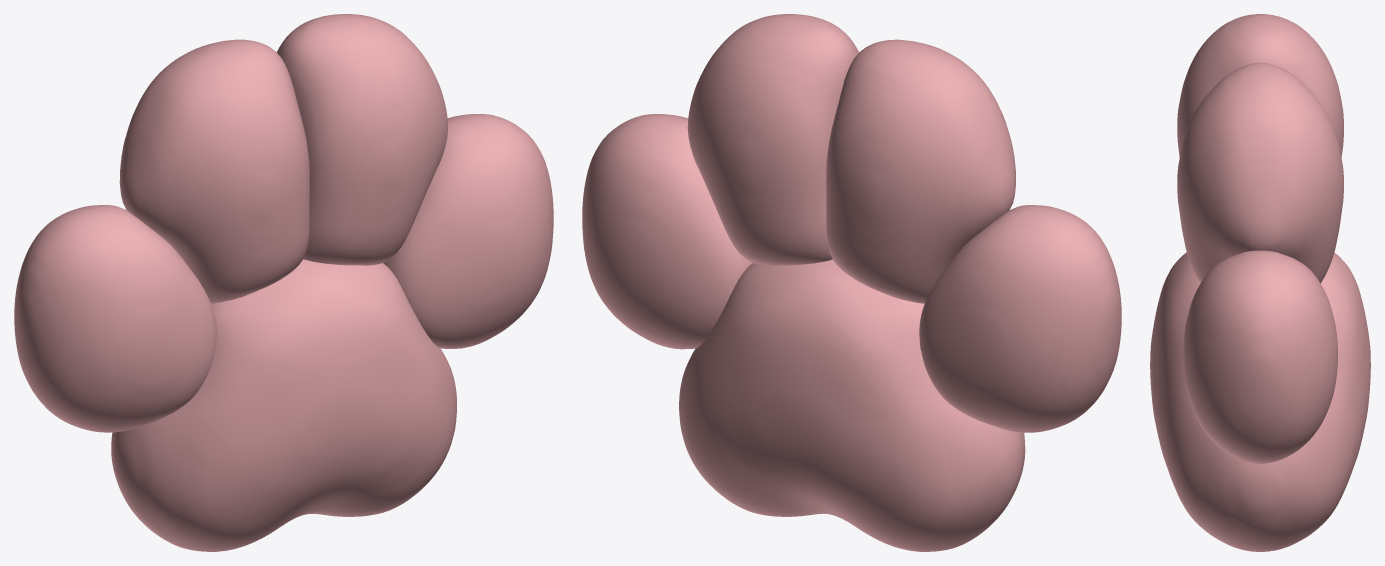
Rendered from PlumpPawpads.fbx.
3 renders of one model, left to right at view 1: azimuth 30°, elevation 25°; view 2: azimuth 150°, elevation 25°; view 3: azimuth 270°, elevation 25°, orthographic. The views are drawn at different scales.
Visible parts, largest first — view 1: Pad00; view 2: Pad00; view 3: Pad00.
Part boxes in pixels (x1,y1,x2,y2): Pad00: (14,14,553,551); Pad00: (582,14,1121,551); Pad00: (1150,14,1370,551).
Bounding box in the file's own units: 106 × 95.28 × 41.41.
